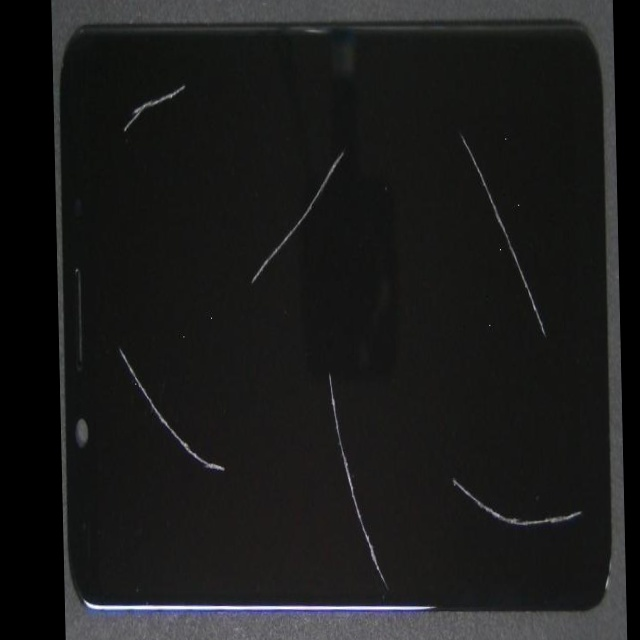scratch: (254, 11, 617, 196), (91, 110, 147, 525), (94, 12, 155, 221)
